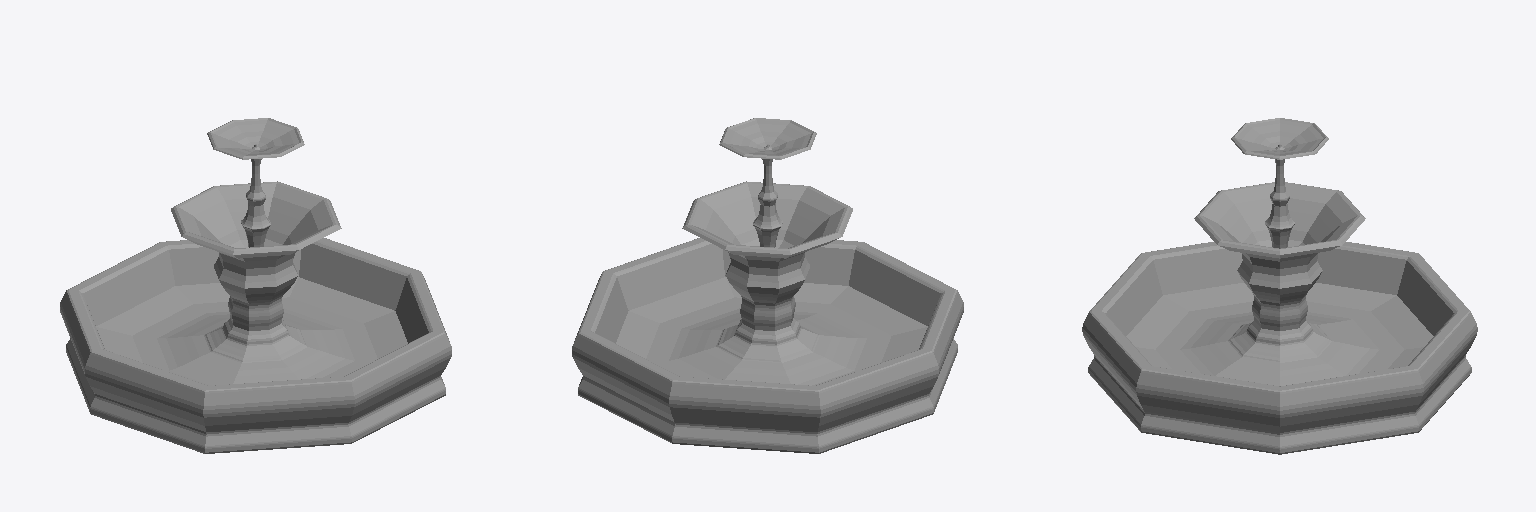
The model's file is fuente.obj.
3 views of the same model, side by side, from view 1: azimuth 30°, elevation 25°; view 2: azimuth 150°, elevation 25°; view 3: azimuth 270°, elevation 25° (orthographic).
Parts seen in each view (by area): view 1: Cube; view 2: Cube; view 3: Cube.
Boxes of the visible parts, x1=… form: Cube: x1=60, y1=118, x2=451, y2=453; Cube: x1=572, y1=118, x2=963, y2=453; Cube: x1=1082, y1=118, x2=1477, y2=454.
Bounding box in the file's own units: 26.45 × 17.56 × 26.45.